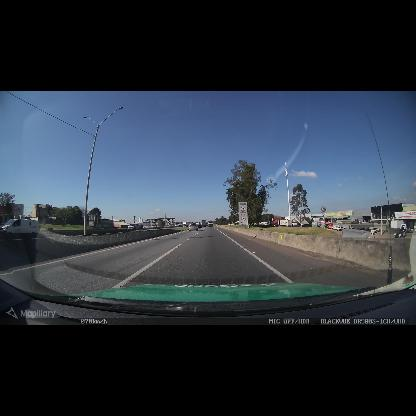I-SA: (238, 202, 247, 206)
R-19: (238, 206, 248, 226)
